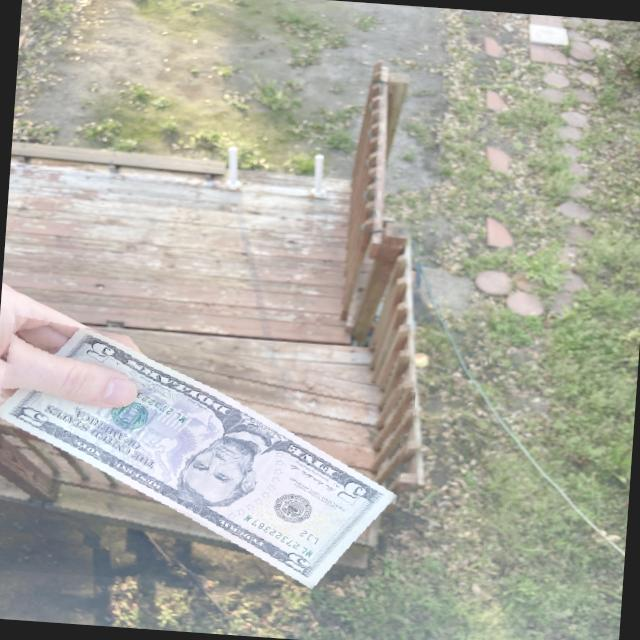five: (0, 300, 396, 609)
